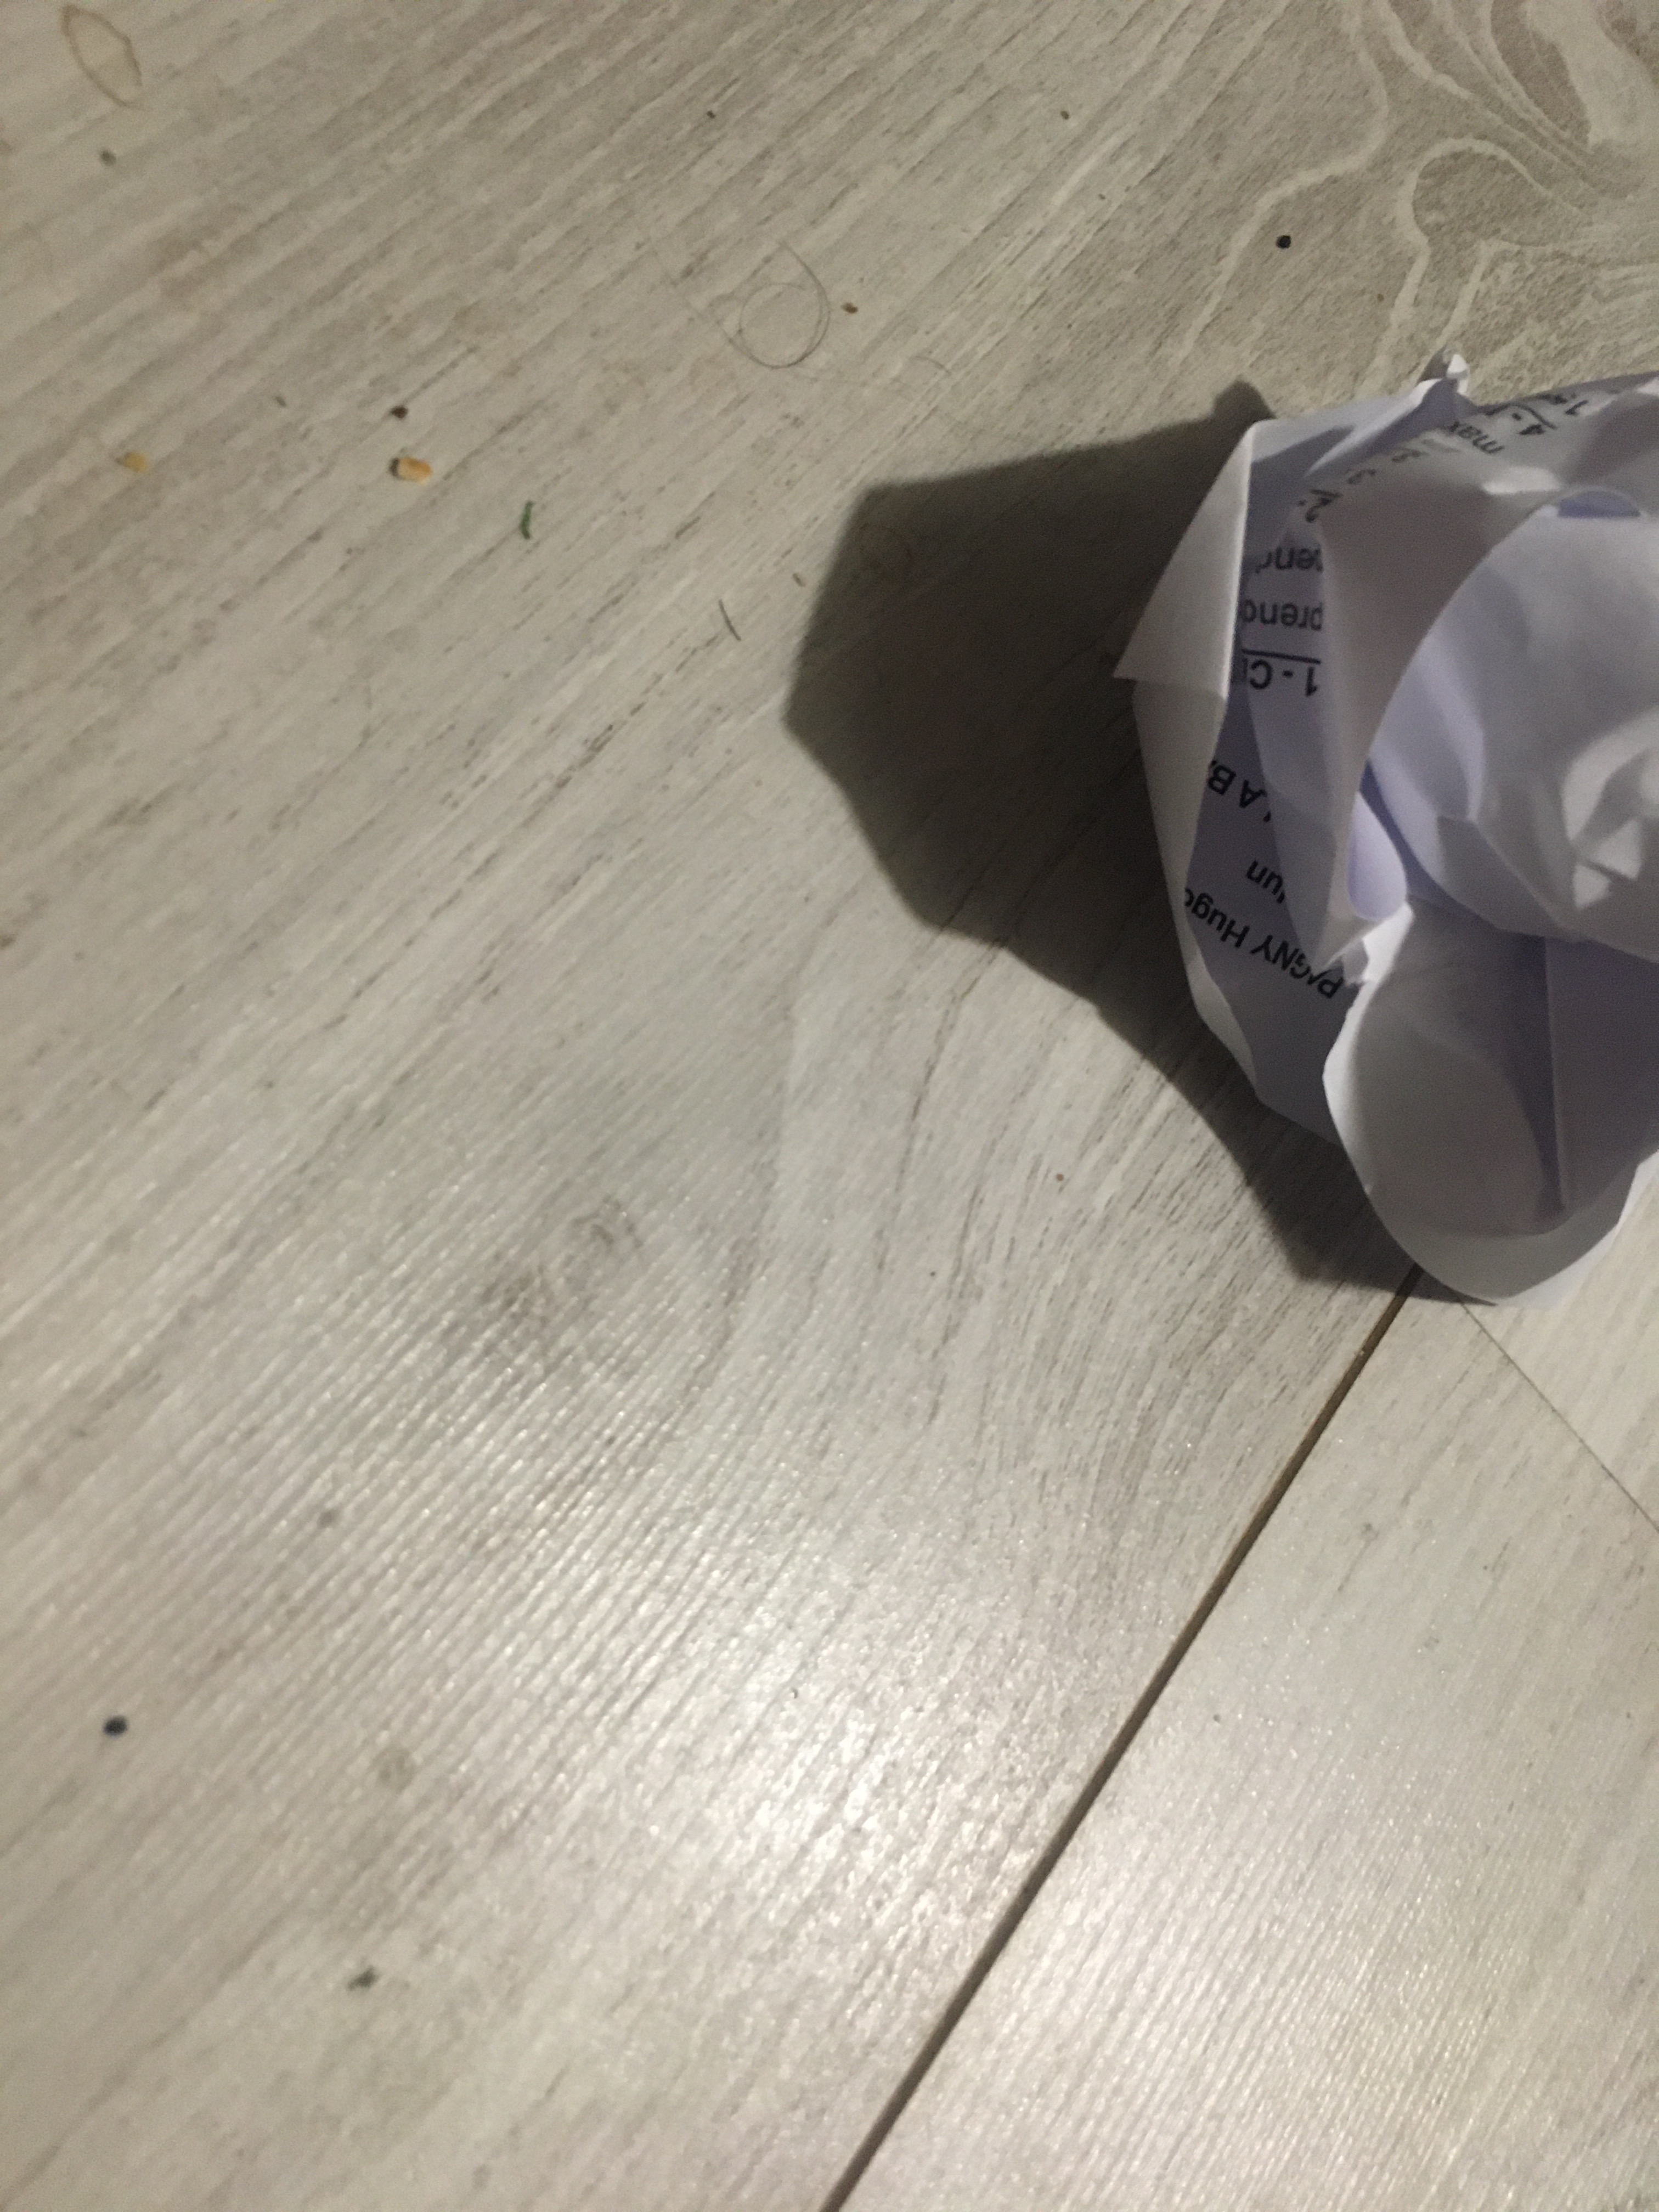paper: (1161, 354, 1659, 1296)
